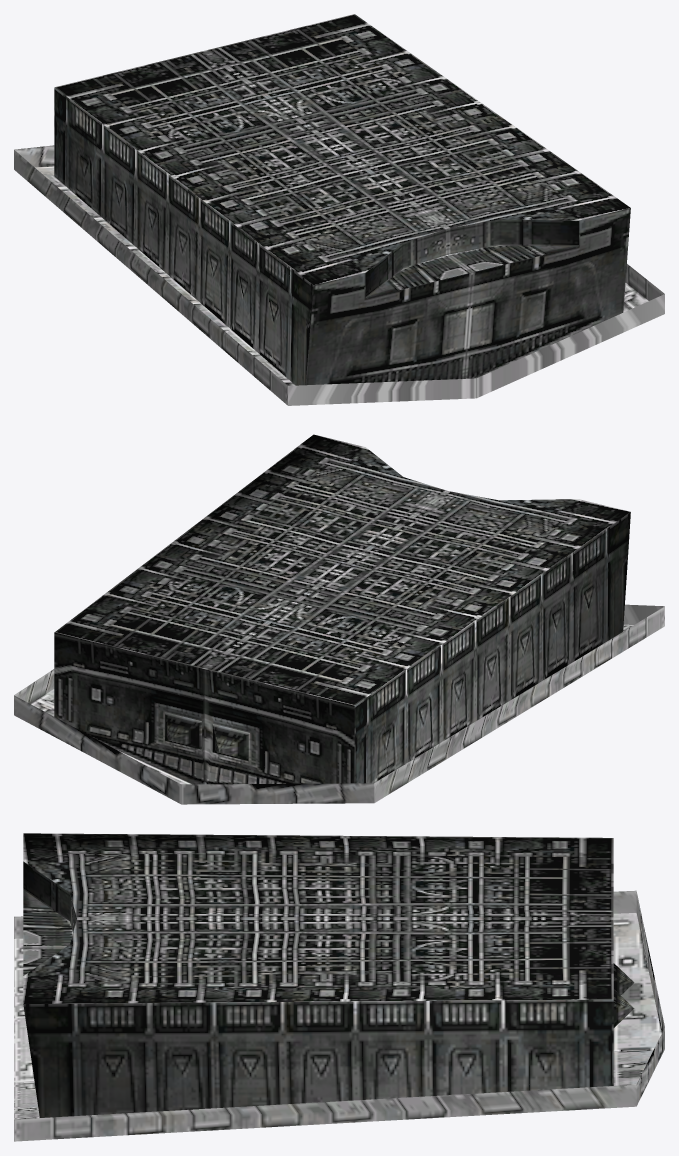
The model's file is star_destroyer_hangar_l2.fbx.
3 renders of one model, top to bottom at view 1: azimuth 30°, elevation 25°; view 2: azimuth 150°, elevation 25°; view 3: azimuth 270°, elevation 25°, orthographic. The views are drawn at different scales.
Visible parts, largest first — view 1: mesh_node; view 2: mesh_node; view 3: mesh_node.
Boxes of the visible parts, <box> form: mesh_node: <box>14,14,664,405</box>; mesh_node: <box>14,434,664,804</box>; mesh_node: <box>14,833,664,1141</box>.
Size of the model in its own units: 246 by 92.77 by 334.
Materials: 1 (1 with a texture image).
